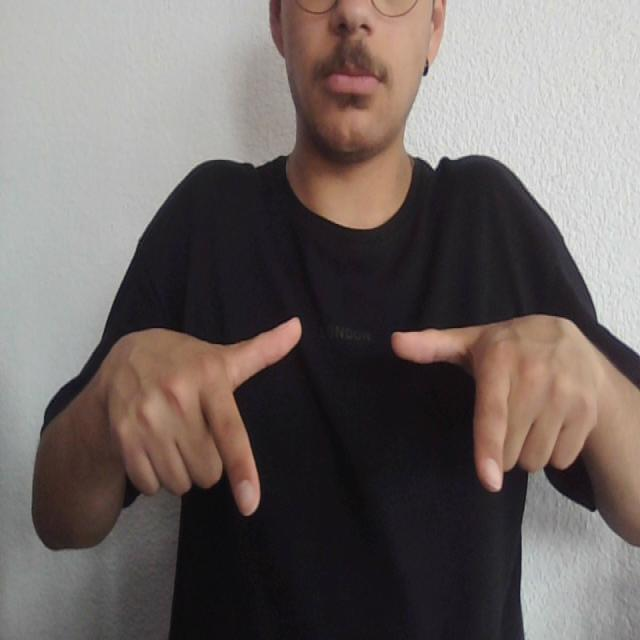Nerede: (200, 300, 519, 537)
